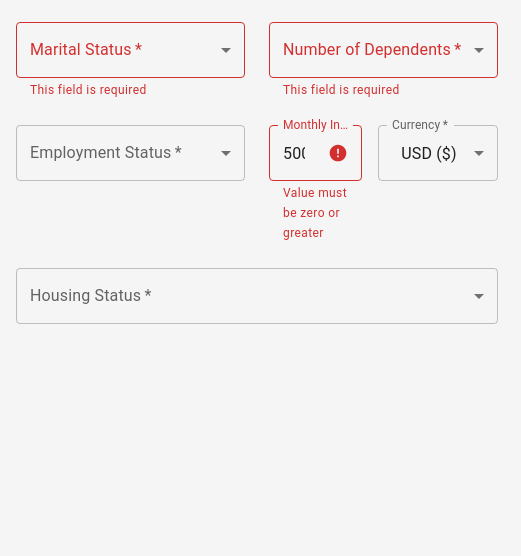
Scenario: Step2FamilyFinancial Component › renders dependents dropdown with numbers 0-10
This screenshot has width=521, height=556.
Click the dropdown named "dependents".
click(384, 50)  # box [269,22,498,78]
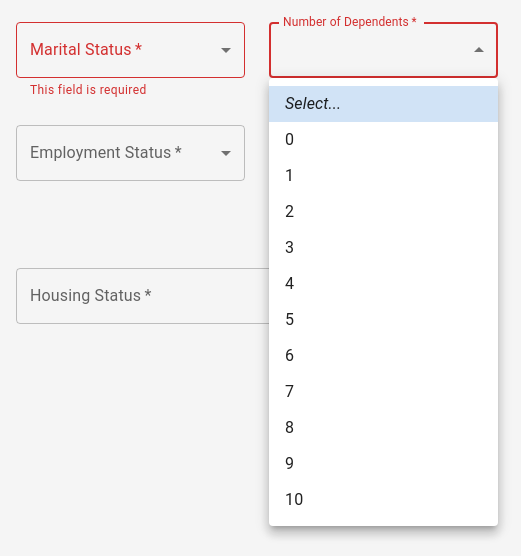
Check: the option "0" is shown, box [285,130,294,149]
Check: the option "5" is shown, box [285,310,294,329]
Check: the option "10" is shown, box [285,490,303,509]
